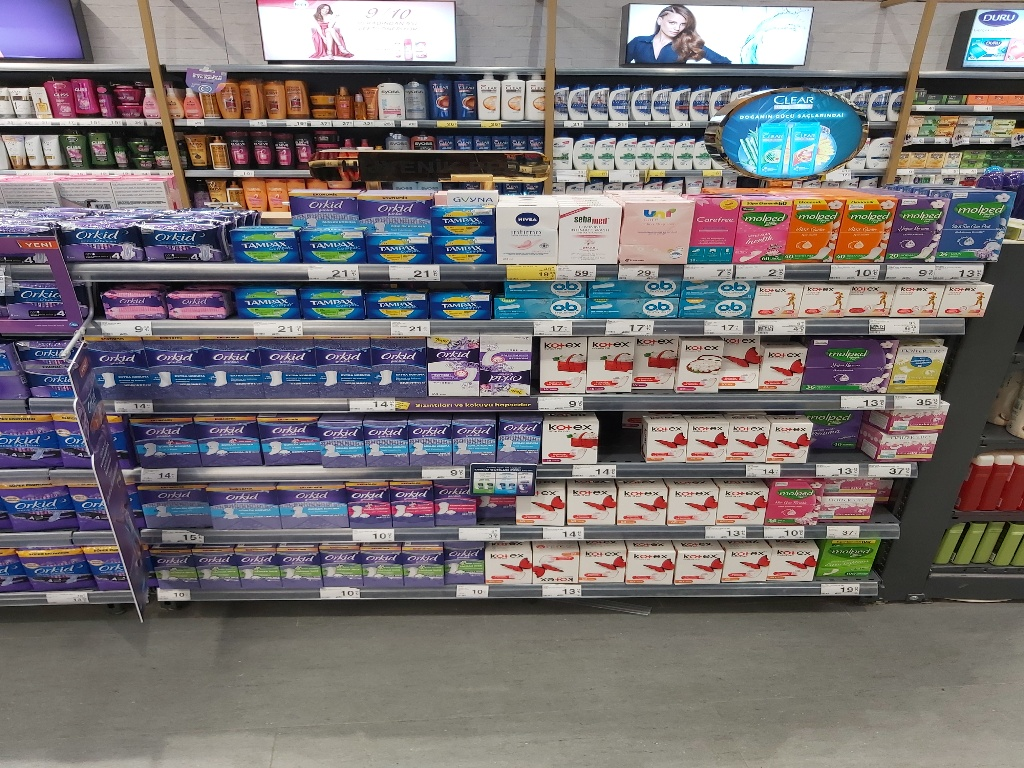urun: (618, 189, 694, 270), (945, 183, 1014, 270), (495, 195, 562, 270), (788, 184, 847, 268), (556, 191, 622, 266), (732, 183, 791, 266), (684, 187, 742, 270), (424, 330, 483, 407), (477, 332, 536, 408), (1, 484, 78, 538), (200, 479, 279, 531), (13, 549, 90, 602), (803, 334, 900, 376), (140, 219, 233, 262), (837, 189, 890, 264), (891, 192, 943, 266), (585, 330, 639, 399), (532, 328, 589, 393), (539, 411, 604, 466), (765, 474, 892, 502), (759, 502, 886, 530), (197, 412, 264, 465), (275, 480, 347, 529), (134, 411, 201, 463), (90, 343, 150, 401), (196, 338, 256, 396), (315, 339, 375, 397), (364, 343, 424, 401), (813, 531, 877, 585), (218, 223, 302, 264), (142, 342, 202, 399), (255, 342, 315, 399), (261, 411, 317, 471), (515, 476, 570, 534), (562, 480, 617, 538), (612, 477, 667, 535), (666, 476, 721, 534), (136, 483, 202, 531), (717, 474, 772, 531), (294, 280, 364, 324), (360, 279, 429, 323), (428, 276, 497, 320), (292, 223, 366, 264), (362, 229, 436, 270), (320, 408, 365, 475), (93, 283, 163, 326), (276, 540, 323, 604), (362, 410, 407, 476), (159, 282, 228, 325), (229, 282, 298, 325), (232, 539, 278, 603), (315, 538, 361, 602), (399, 543, 445, 607), (440, 540, 486, 604), (892, 342, 950, 392), (635, 329, 681, 392), (680, 334, 726, 397), (493, 291, 586, 321), (584, 291, 677, 321), (148, 543, 197, 598), (671, 292, 750, 326), (771, 417, 823, 467), (390, 484, 438, 538), (867, 429, 950, 460), (723, 332, 763, 396), (347, 481, 394, 535), (742, 283, 805, 323), (837, 279, 900, 319), (408, 413, 452, 470), (453, 413, 497, 470), (763, 346, 810, 399), (874, 401, 957, 431), (644, 413, 690, 467), (888, 282, 951, 321), (684, 410, 730, 463), (728, 410, 774, 463), (481, 539, 525, 594), (790, 282, 852, 321), (497, 412, 540, 468), (195, 543, 234, 602), (357, 543, 396, 602), (436, 481, 477, 536), (573, 543, 620, 590), (631, 541, 677, 589), (678, 540, 724, 588), (722, 540, 768, 588), (767, 536, 813, 584), (534, 539, 580, 586), (439, 234, 500, 269), (434, 204, 495, 238), (940, 283, 995, 320)
urun2: (65, 221, 145, 269)
